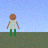person: (7, 14, 19, 36)
